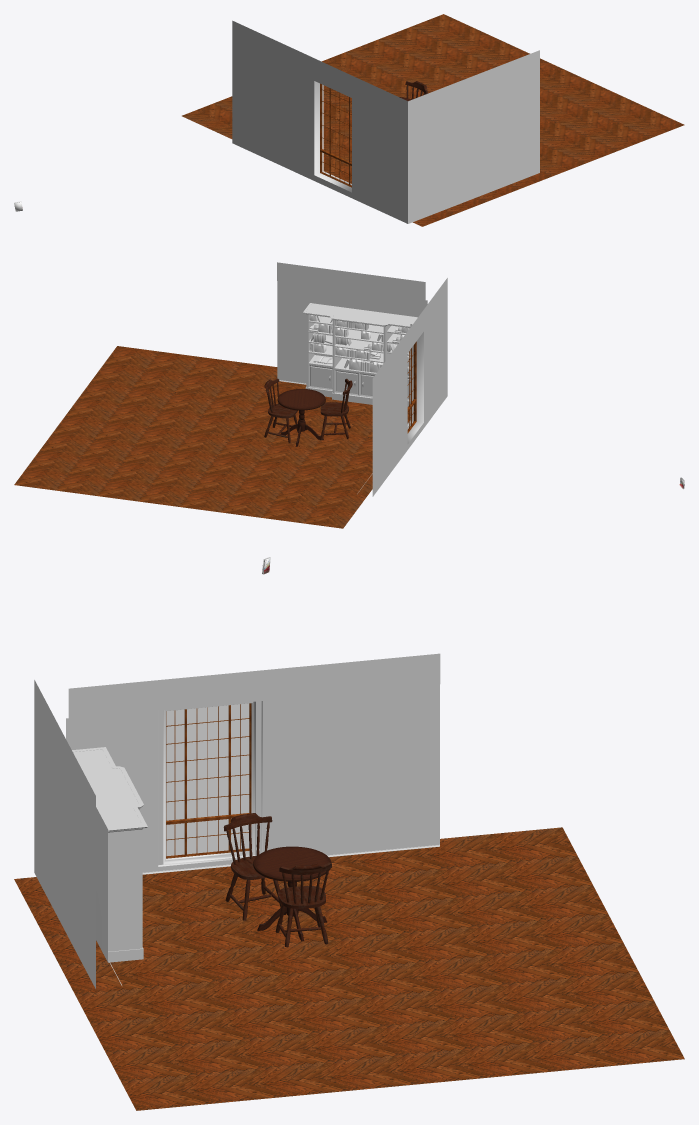
The picture shows the model from 3 angles, top to bottom: view 1: azimuth 30°, elevation 25°; view 2: azimuth 150°, elevation 25°; view 3: azimuth 270°, elevation 25°; orthographic projection. The views are drawn at different scales.
Parts seen in each view (by area): view 1: WallCorn ins, Wall, Floor 2x2 (2), Floor 2x2 (1), Wall (1), Box006, Floor 2x2 (3), Floor 2x2, Plane040; view 2: Floor 2x2 (2), Floor 2x2 (1), Floor 2x2 (3), Wall, shkaff, Floor 2x2, WallCorn ins, Box006, Wall (1), BOOKS_1, initialShadingGroup_lowpoly_mesh (×2), round_wooden_table_01 (+1 smaller); view 3: Floor 2x2 (1), Floor 2x2 (2), Wall (1), Floor 2x2 (3), Floor 2x2, WallCorn ins, Plane038, shkaff, Box006, Wall, initialShadingGroup_lowpoly_mesh (×2), Plane040 (+1 smaller).
Boxes of the visible parts, x1,y1,x2,y2 form: WallCorn ins: (371,83,455,223); Wall: (456,50,539,205); Floor 2x2 (2): (322,14,563,99); Floor 2x2 (1): (540,69,684,175); Wall (1): (232,20,301,171); Box006: (294,49,371,207); Floor 2x2 (3): (182,85,351,162); Floor 2x2: (323,152,552,226); Plane040: (320,83,351,187); Floor 2x2 (2): (14,415,229,506); Floor 2x2 (1): (66,346,277,437); Floor 2x2 (3): (179,437,372,528); Wall: (277,262,374,384); shkaff: (303,303,417,406); Floor 2x2: (230,374,410,455); WallCorn ins: (374,275,447,416); Box006: (399,298,432,460); Wall (1): (357,343,399,496); BOOKS_1: (309,315,410,375); initialShadingGroup_lowpoly_mesh (×2): (264,378,352,443); round_wooden_table_01: (277,389,325,446); Floor 2x2 (1): (75,969,410,1110); Floor 2x2 (2): (349,943,684,1084); Wall (1): (264,653,440,857); Floor 2x2 (3): (303,827,623,968); Floor 2x2: (14,866,348,994); WallCorn ins: (34,680,154,914); Plane038: (166,703,249,856); shkaff: (72,747,147,962); Box006: (126,667,292,873); Wall: (57,723,121,988); initialShadingGroup_lowpoly_mesh (×2): (223,813,331,947); Plane040: (166,703,251,858).
Size of what is drawn, in the model's own units: 16.29 by 3.05 by 9.55.
Materials: 6 (5 with a texture image).
